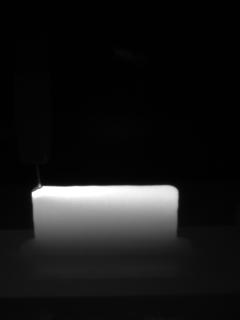tip_wire_left: (21, 159, 41, 187)
tip_wire_right: (38, 159, 48, 187)
